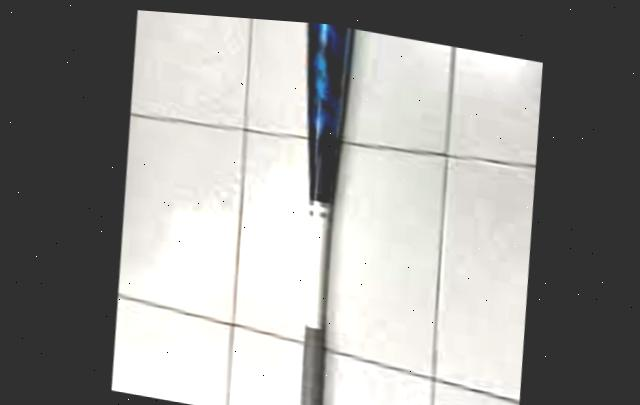baseball bat: (259, 15, 365, 405)
